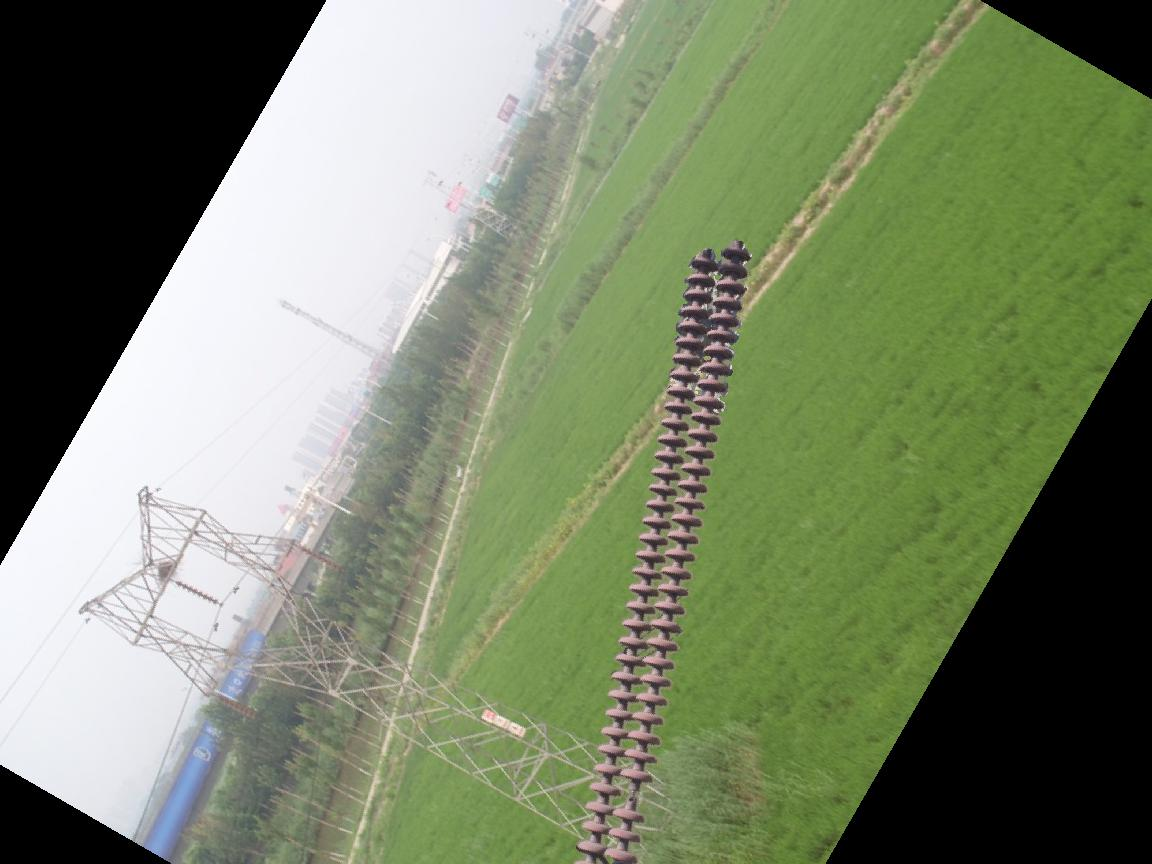insulator: (567, 237, 755, 864), (210, 691, 262, 725), (170, 578, 219, 610)
insulator_stringdrop: (610, 765, 654, 825)
